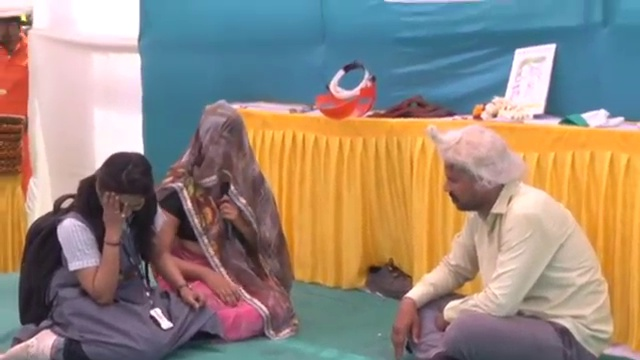helmet_off: (428, 131, 522, 216), (89, 152, 154, 219), (191, 104, 249, 179), (0, 8, 24, 45)
person: (368, 126, 622, 356), (6, 151, 182, 355), (151, 106, 289, 342), (0, 5, 28, 114)
